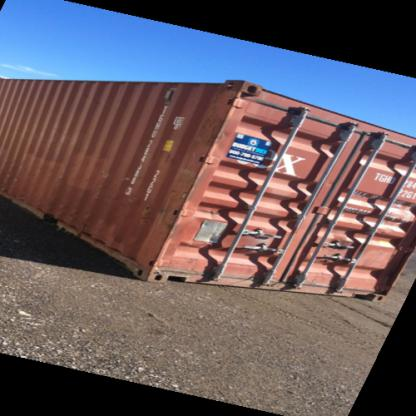Damage: (201, 103, 235, 155), (171, 164, 208, 204), (156, 201, 180, 235), (38, 207, 66, 235), (136, 197, 155, 219)
